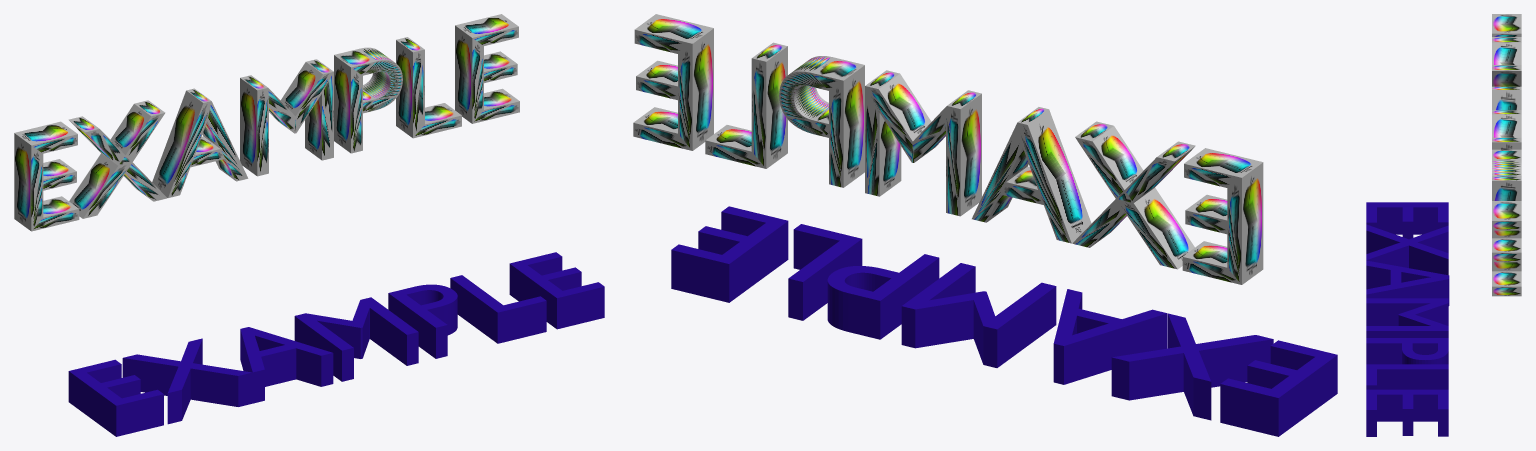
File: TestModel.obj
3 views of the same model, side by side, from view 1: azimuth 30°, elevation 25°; view 2: azimuth 150°, elevation 25°; view 3: azimuth 270°, elevation 25° (orthographic). The views are drawn at different scales.
Parts seen in each view (by area): view 1: Text.001_Mesh.001, Text_Mesh; view 2: Text.001_Mesh.001, Text_Mesh; view 3: Text_Mesh, Text.001_Mesh.001.
Part boxes in pixels (left/top/right/bottom): Text.001_Mesh.001: left=14, top=14, right=519, bottom=231; Text_Mesh: left=68, top=252, right=604, bottom=436; Text.001_Mesh.001: left=633, top=14, right=1263, bottom=284; Text_Mesh: left=671, top=206, right=1337, bottom=436; Text_Mesh: left=1366, top=202, right=1449, bottom=436; Text.001_Mesh.001: left=1492, top=14, right=1521, bottom=296.
Bounding box in the file's own units: 4.16 × 1.92 × 1.28.
